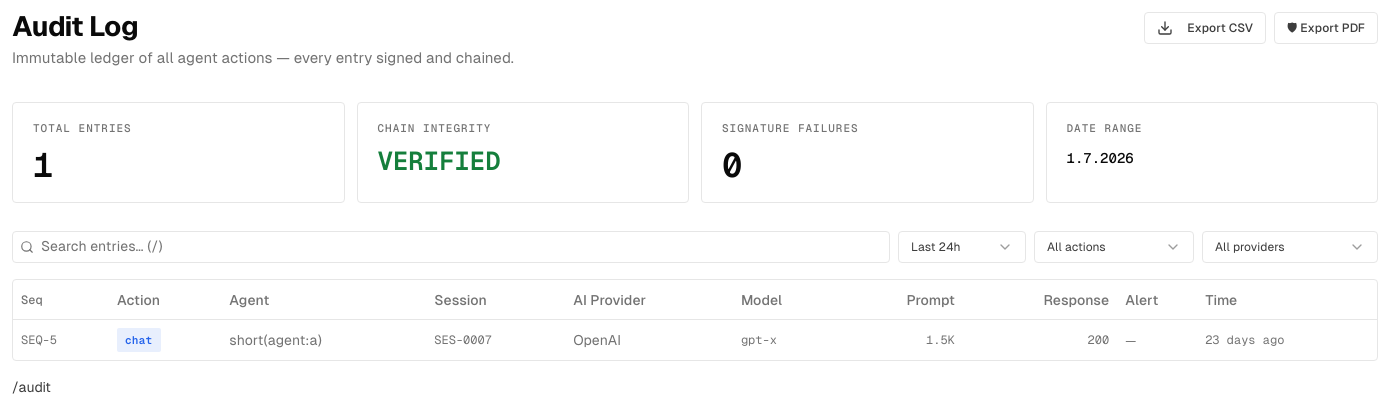
Test: AuditLogPage — table rows › opens the entry dialog via ?entry= on row click
Click the text "SEQ-5": point(39, 340) [13,320,109,360]
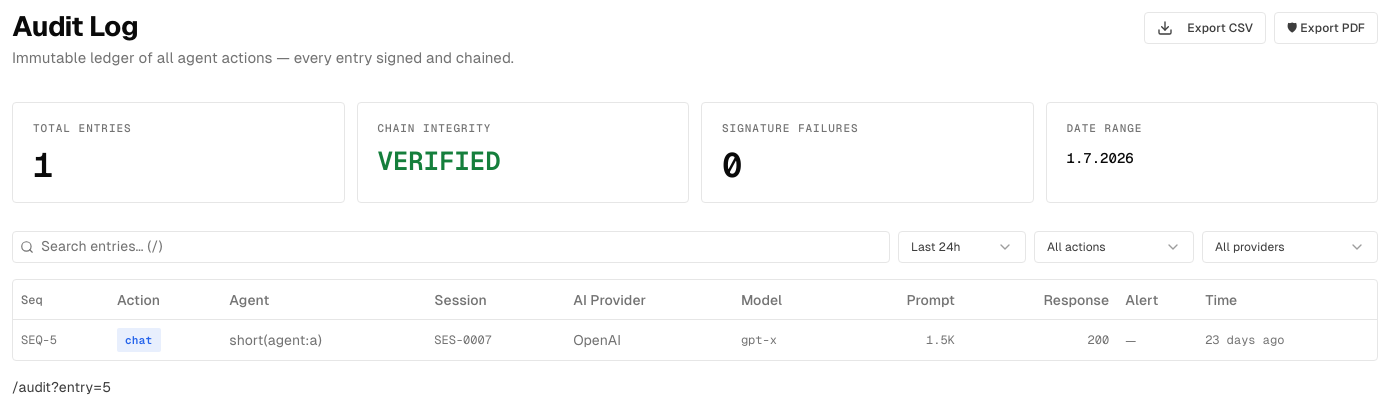
expect the text with test id "loc" reads "/audit?entry=5": met, box [12,379,111,395]
